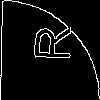R: (25, 25, 71, 62)
